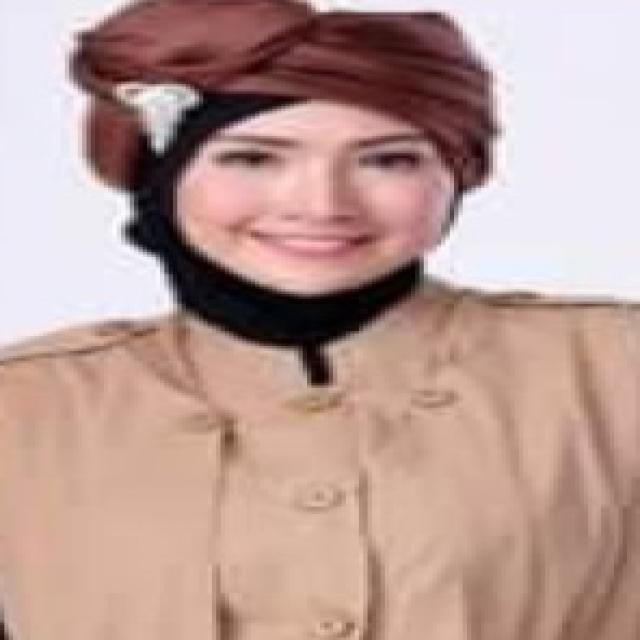head: (102, 22, 505, 305)
